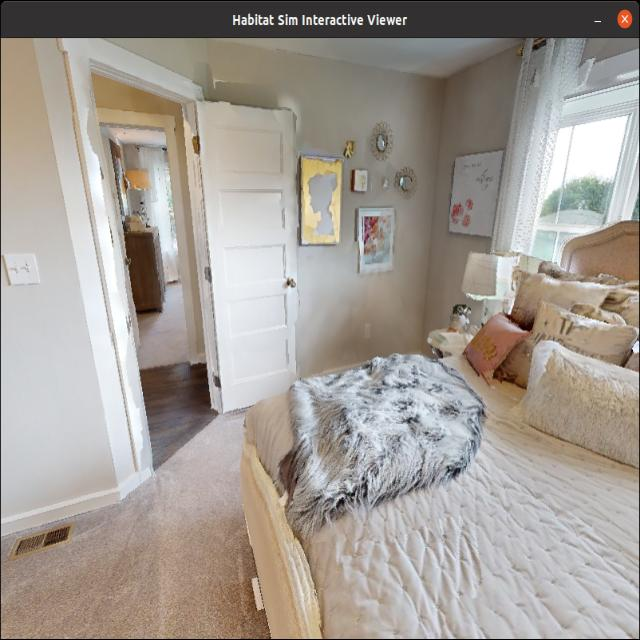bed: (217, 209, 640, 640)
door: (176, 87, 307, 413)
door-frame: (59, 37, 210, 496)
